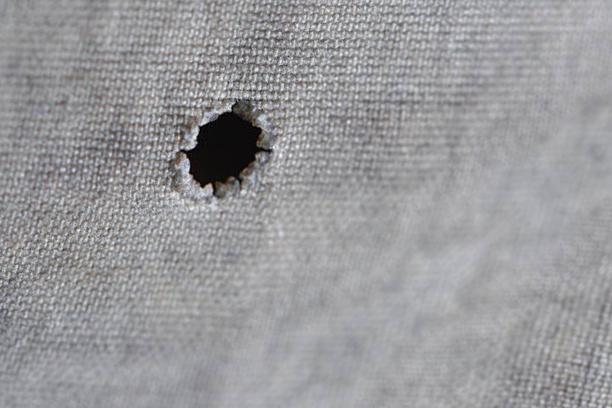hole: (168, 97, 278, 208)
